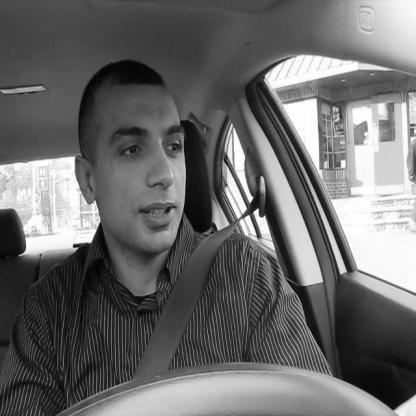seatbelt: (64, 56, 272, 373)
